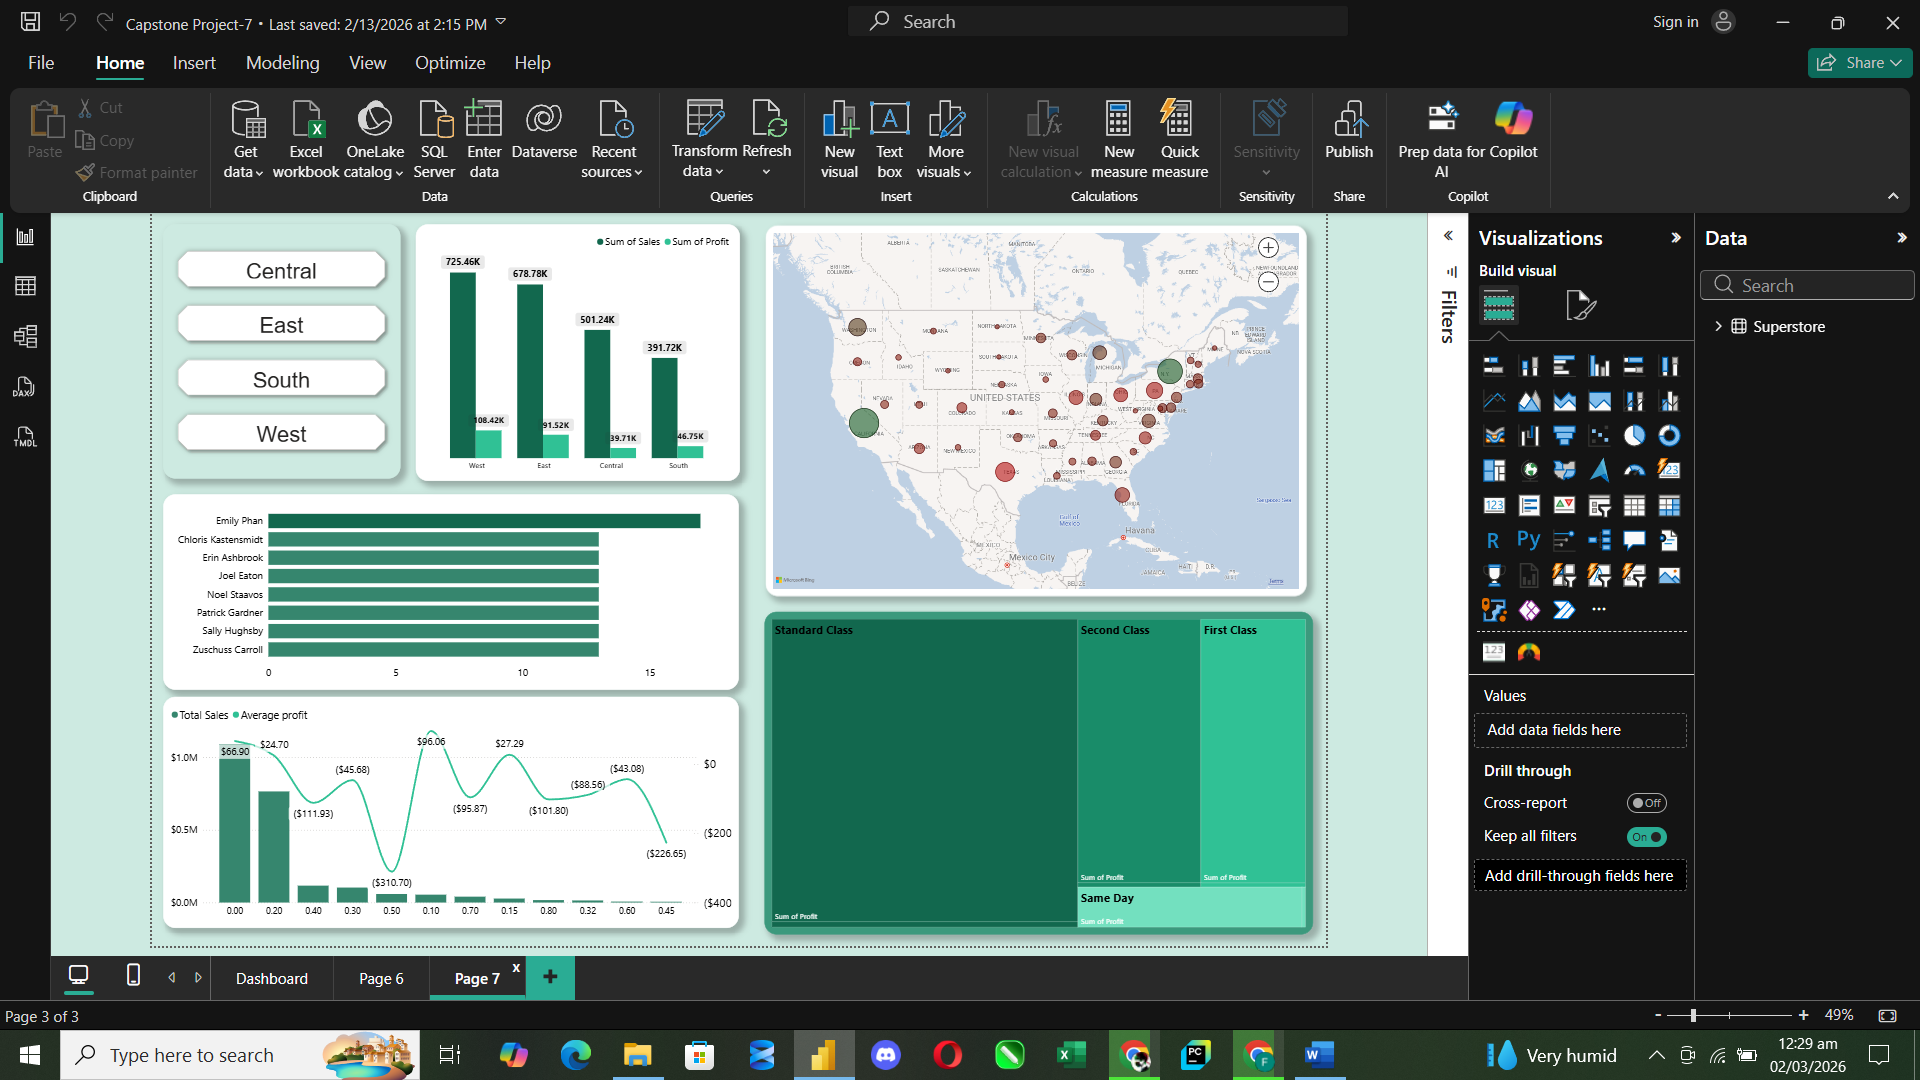

The dashboard page shown, as its layout file describes it:
{"tool":"powerbi","page":{"name":"Page 7","canvas":[1920,1200],"ordinal":2},"visuals":[{"type":"barChart","fields":{"Category":["Superstore.Customer_Name"],"Y":["Count(Superstore.Order_ID)"]},"box":[19.3,461.1,941.4,320.3],"z":0},{"type":"clusteredColumnChart","fields":{"Category":["Superstore.Region"],"Y":["Sum(Superstore.Sales)","Sum(Superstore.Profit)"]},"box":[430.7,19.3,530.1,419.6],"z":1000},{"type":"lineStackedColumnComboChart","fields":{"Y":["Superstore.Total Sales"],"Category":["Superstore.Discount"],"Y2":["Superstore.Average profit"]},"box":[19.3,792.4,941.4,378.2],"z":2000},{"type":"map","fields":{"Size":["Sum(Superstore.Sales)"],"Category":["Superstore.State"]},"box":[1003.5,19.8,884.4,606.6],"z":3000},{"type":"treemap","fields":{"Group":["Superstore.Ship_Mode"],"Values":["Count(Superstore.Order_ID)","Sum(Superstore.Profit)"]},"box":[1002.2,651.5,897.3,528],"z":4000},{"type":"advancedSlicerVisual","fields":{"Values":["Superstore.Region"]},"box":[18.9,18.9,387.9,416.3],"z":5000}]}

Visuals, with their boxes on the page's 1920x1200 design canvas (x1, y1, x2, y2). These are canvas units, not pixel positions in the 1920x1080 screenshot, which may show the page scaled, cropped or inside an application window:
barChart - Superstore.Customer_Name x Count(Superstore.Order_ID): [19, 461, 961, 781]
clusteredColumnChart - Superstore.Region x Sum(Superstore.Sales): [431, 19, 961, 439]
lineStackedColumnComboChart - Superstore.Total Sales x Superstore.Discount: [19, 792, 961, 1171]
map - Sum(Superstore.Sales) x Superstore.State: [1004, 20, 1888, 626]
treemap - Superstore.Ship_Mode x Count(Superstore.Order_ID): [1002, 652, 1900, 1180]
advancedSlicerVisual - Superstore.Region: [19, 19, 407, 435]
